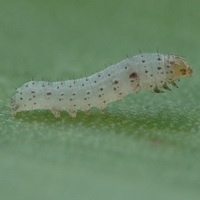insect: (12, 53, 191, 116)
